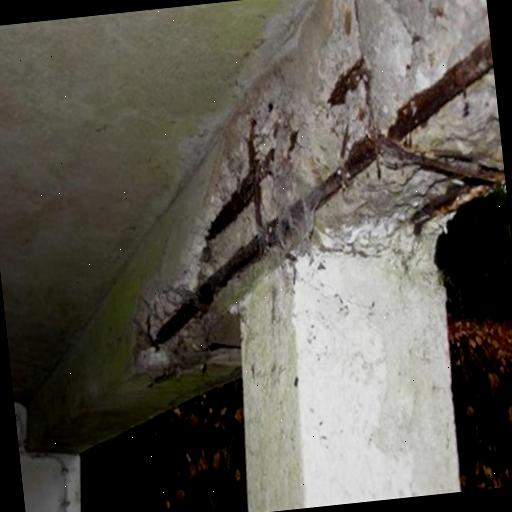spalling: (144, 0, 506, 375)
